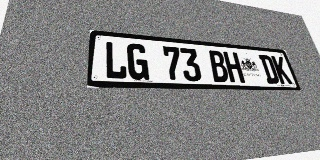3: (180, 48, 202, 82)
7: (161, 46, 184, 81)
B: (207, 50, 230, 82)
D: (258, 54, 280, 84)
G: (127, 43, 149, 80)
H: (223, 51, 245, 83)
K: (271, 56, 293, 84)
L: (104, 41, 127, 80)
